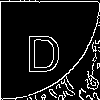D: (24, 24, 63, 73)
